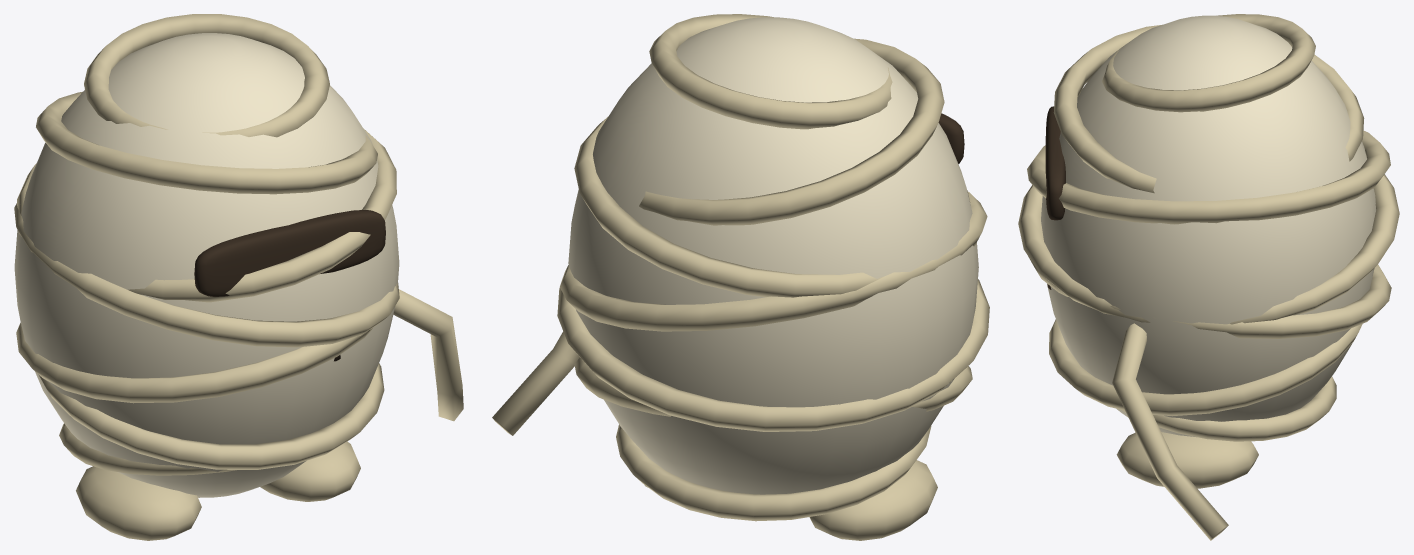
File: H06_MummyWrap.fbx
3 views of the same model, side by side, from view 1: azimuth 30°, elevation 25°; view 2: azimuth 150°, elevation 25°; view 3: azimuth 270°, elevation 25° (orthographic). The views are drawn at different scales.
Parts seen in each view (by area): view 1: H06_MummyWrap__Body, H06_MummyWrap__Wrap, H06_MummyWrap__Dark; view 2: H06_MummyWrap__Body, H06_MummyWrap__Wrap, H06_MummyWrap__Dark; view 3: H06_MummyWrap__Body, H06_MummyWrap__Wrap, H06_MummyWrap__Dark.
Part boxes in pixels (left/top/right/bottom): H06_MummyWrap__Body: left=14, top=33, right=399, bottom=497; H06_MummyWrap__Wrap: left=14, top=14, right=463, bottom=540; H06_MummyWrap__Dark: left=194, top=210, right=385, bottom=296; H06_MummyWrap__Body: left=568, top=17, right=978, bottom=494; H06_MummyWrap__Wrap: left=492, top=14, right=989, bottom=540; H06_MummyWrap__Dark: left=938, top=113, right=964, bottom=163; H06_MummyWrap__Body: left=1041, top=15, right=1375, bottom=437; H06_MummyWrap__Wrap: left=1018, top=14, right=1399, bottom=540; H06_MummyWrap__Dark: left=1045, top=106, right=1065, bottom=220.
Bounding box in the file's own units: 2.15 × 2.18 × 1.81.
